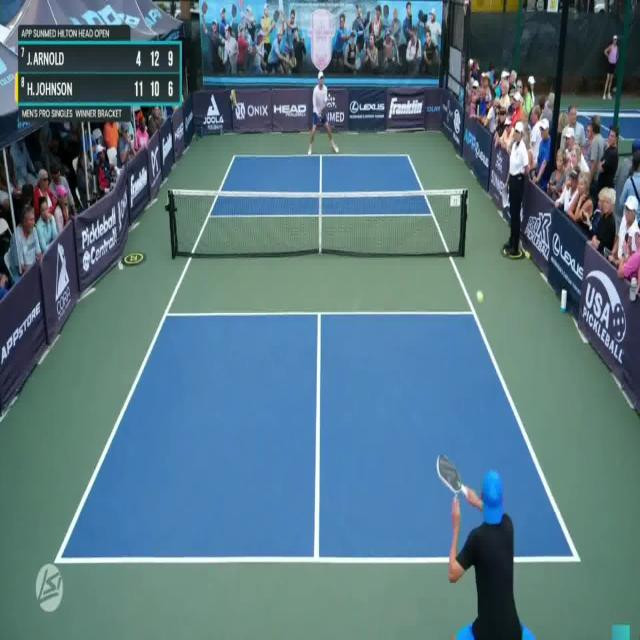ball: (475, 290, 485, 302)
